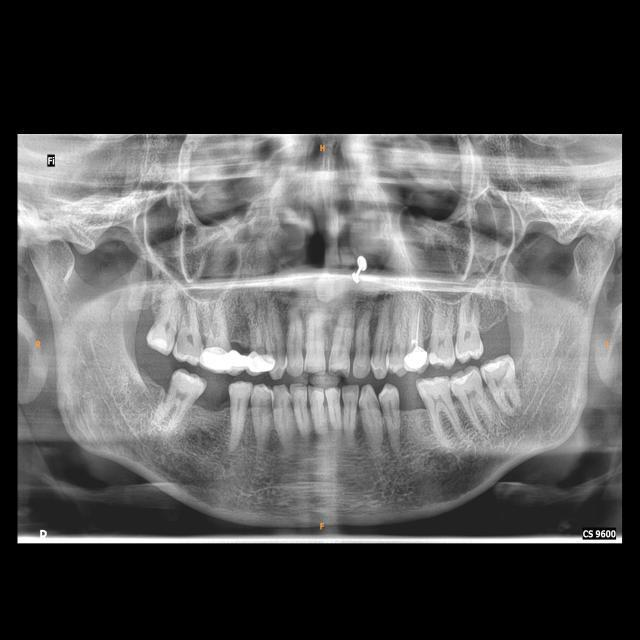dolgu: (150, 332, 168, 354)
kanal-tedavisi: (411, 305, 422, 350)
kaplama: (201, 343, 230, 372), (402, 344, 428, 370), (248, 349, 272, 372)
kopru: (222, 340, 258, 377)
